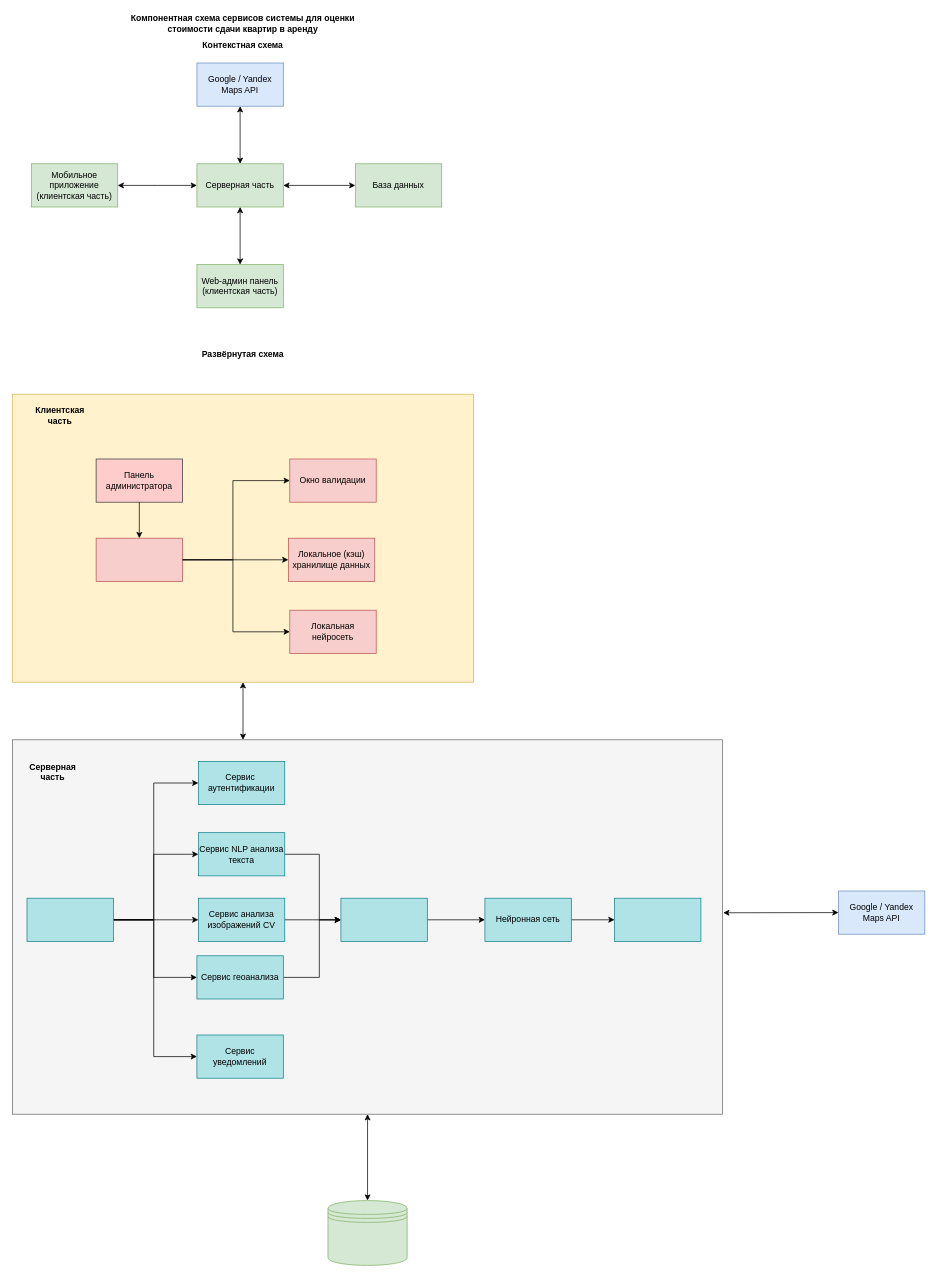
The diagram is 937 pixels wide and 1278 high, and some of its shapes have lost their labels. Each missing label, with the centre of its shape:
"API Gateway / Backend API" goes at point 69,919.
"Генератор отчёта" goes at point 657,919.
"Пользовательский интерфейс" goes at point 139,559.
"Реляционная база данных" goes at point 367,1232.
"Сервис ML-расчёта стоимости" goes at point 383,919.
